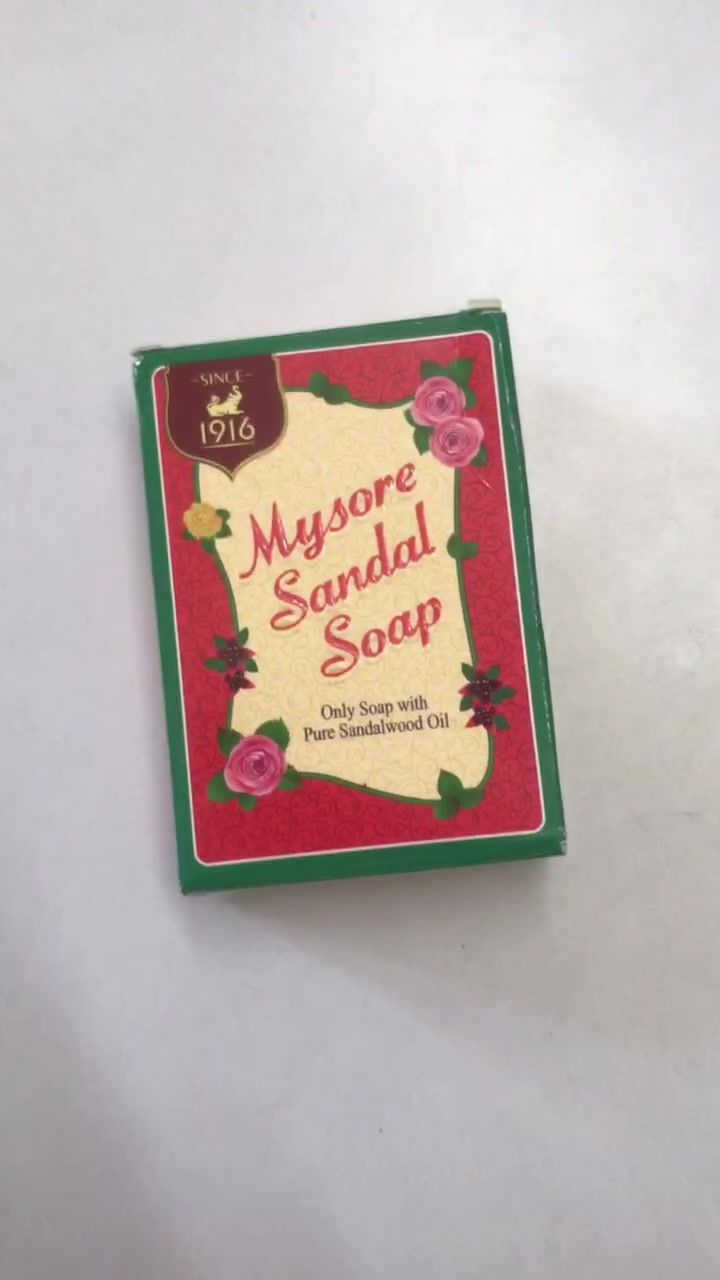mysore sandal soap: (137, 317, 566, 889)
